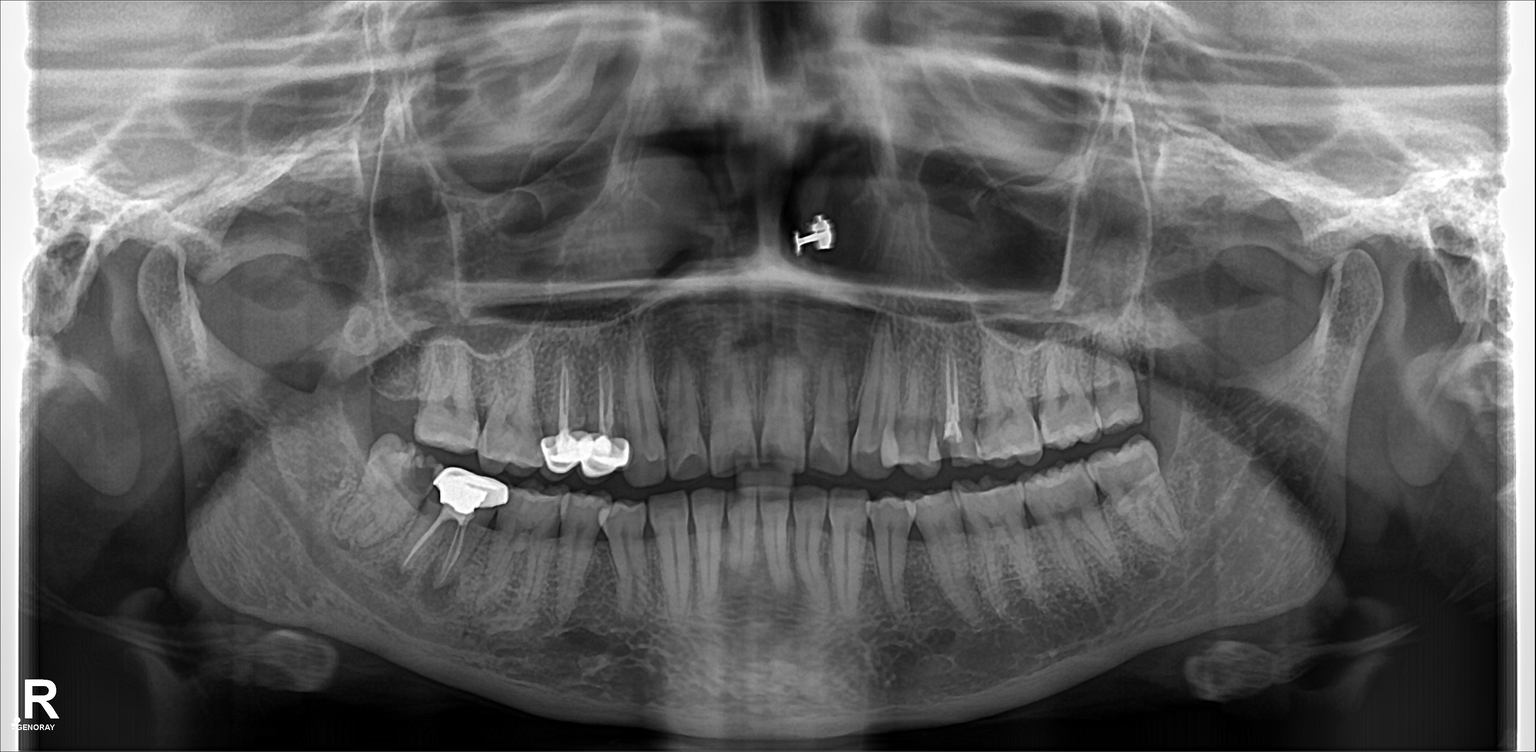Dental Caries: (400, 460, 434, 503)
Endodontically Treated Tooth: (417, 475, 486, 581), (574, 359, 629, 474), (536, 370, 572, 468), (939, 352, 968, 463)
Missing Tooth: (372, 326, 419, 426)
